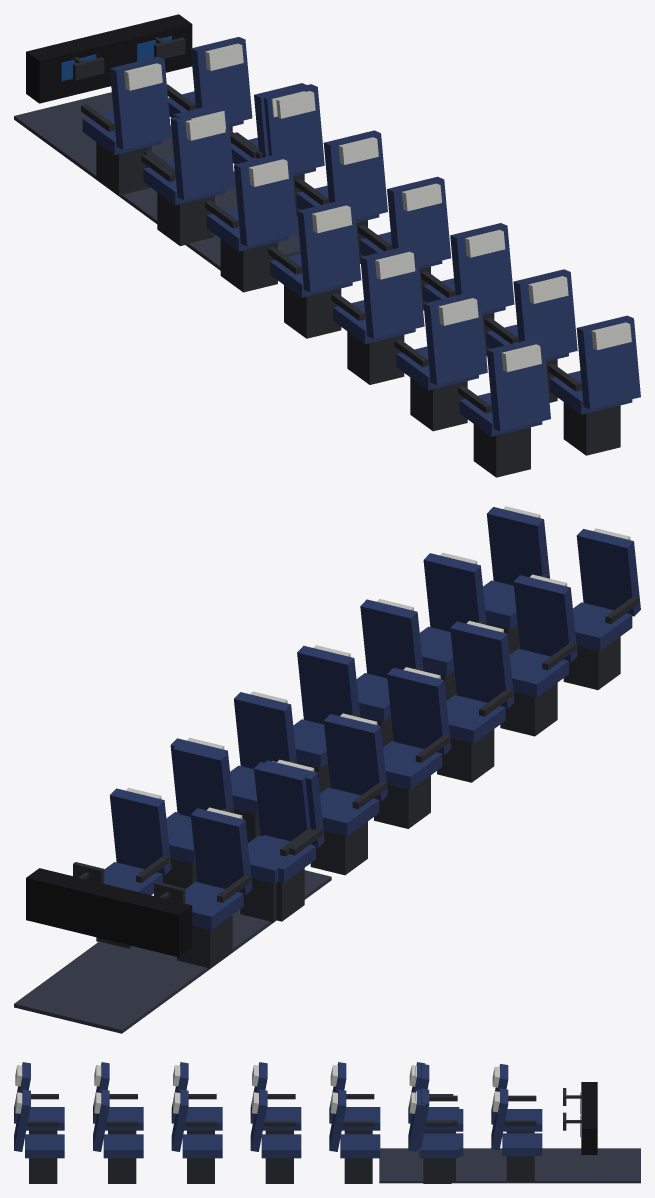
The model's file is lat_single_tp_cabin.dae.
3 views of the same model, one above another, from view 1: azimuth 30°, elevation 25°; view 2: azimuth 150°, elevation 25°; view 3: azimuth 270°, elevation 25° (orthographic). The views are drawn at different scales.
Visible parts, largest first — view 1: lat_single_tp_cabin64; view 2: lat_single_tp_cabin64; view 3: lat_single_tp_cabin64.
Boxes of the visible parts, x1,y1,x2,y2 form: lat_single_tp_cabin64: [14, 14, 640, 477]; lat_single_tp_cabin64: [14, 506, 640, 1033]; lat_single_tp_cabin64: [14, 1062, 640, 1183].
Bounding box in the file's own units: 1.33 × 7.55 × 1.11.
